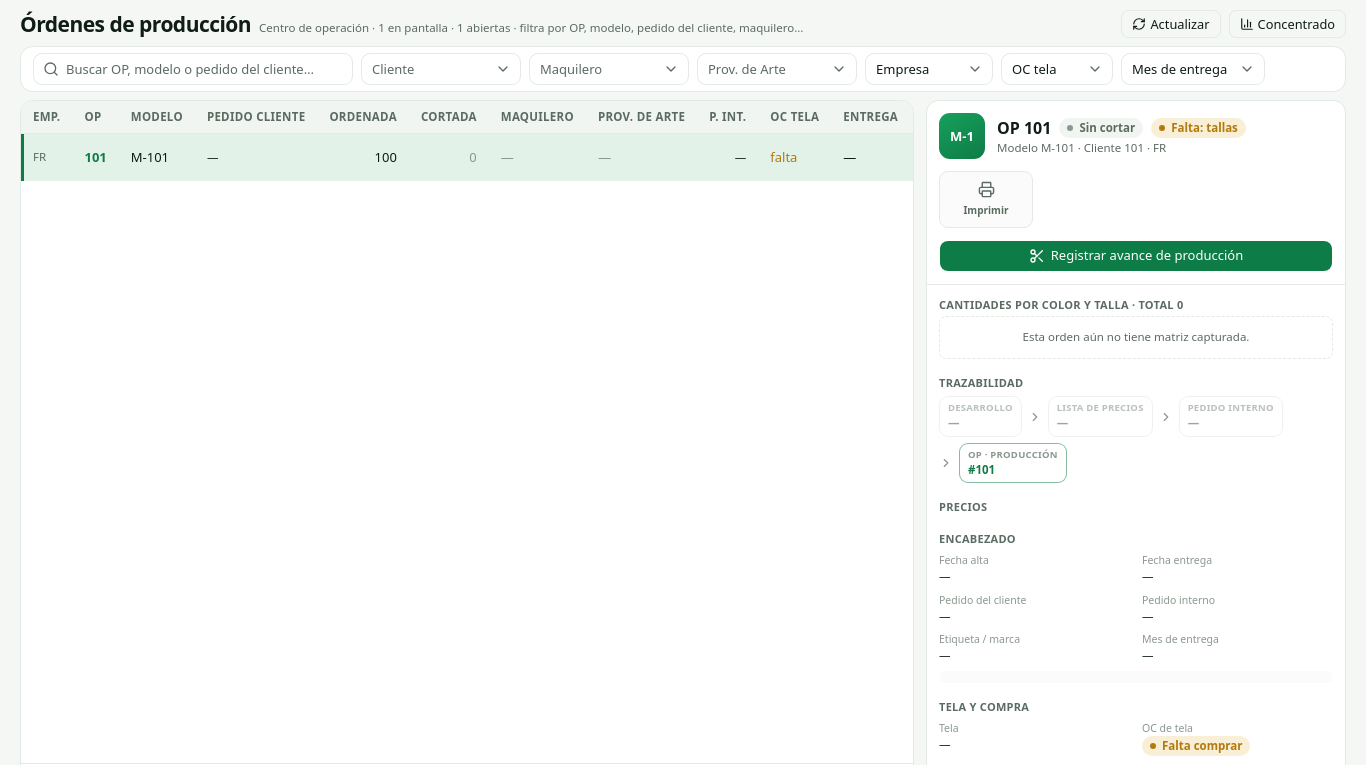
Test case: <CentroOrdenesPagina> › los filtros de select llevan su ✕ para quitarlos (mes de entrega)
Select "Mar" in the dropdown with test id "centro-filtro-mes": coordinates (1193, 69) [1121,53,1265,85]
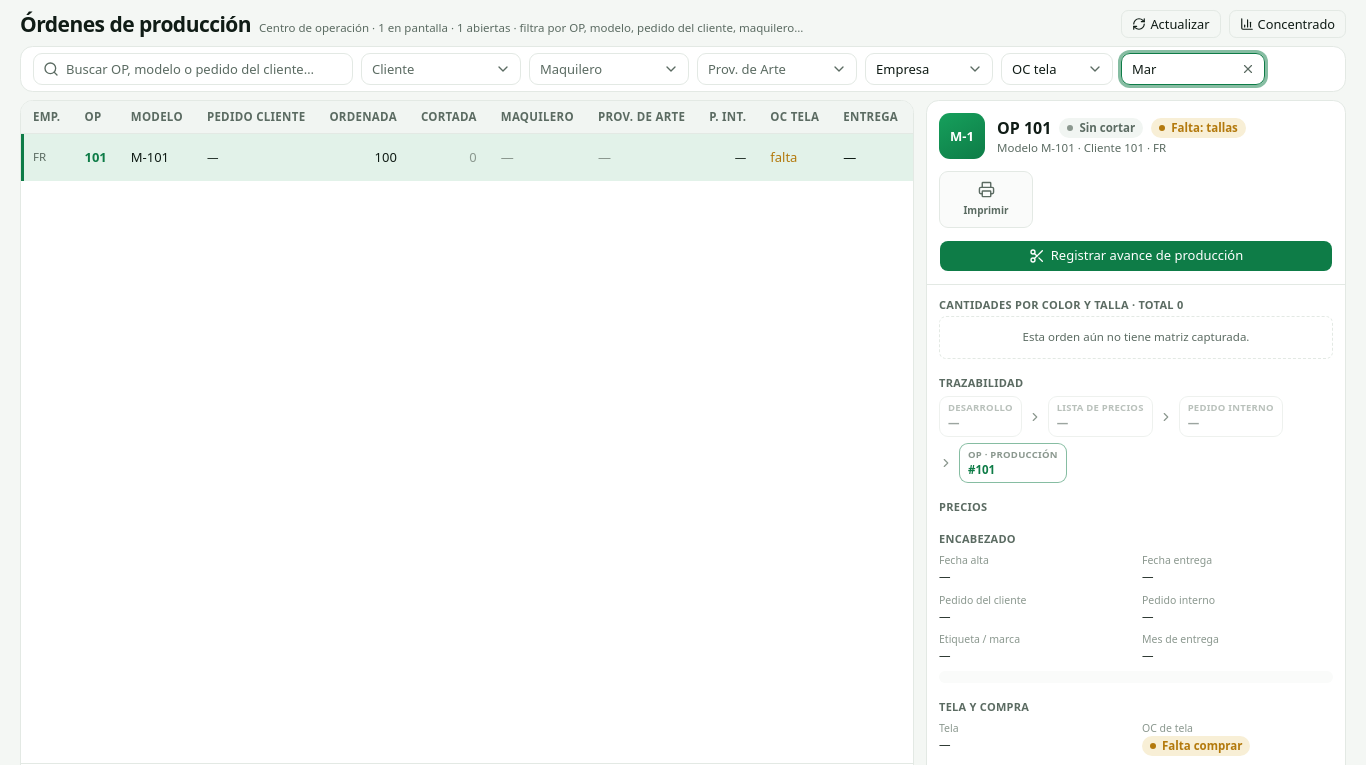
Click the button with test id "centro-filtro-mes-limpiar": coordinates (1248, 69) [1239,60,1257,78]
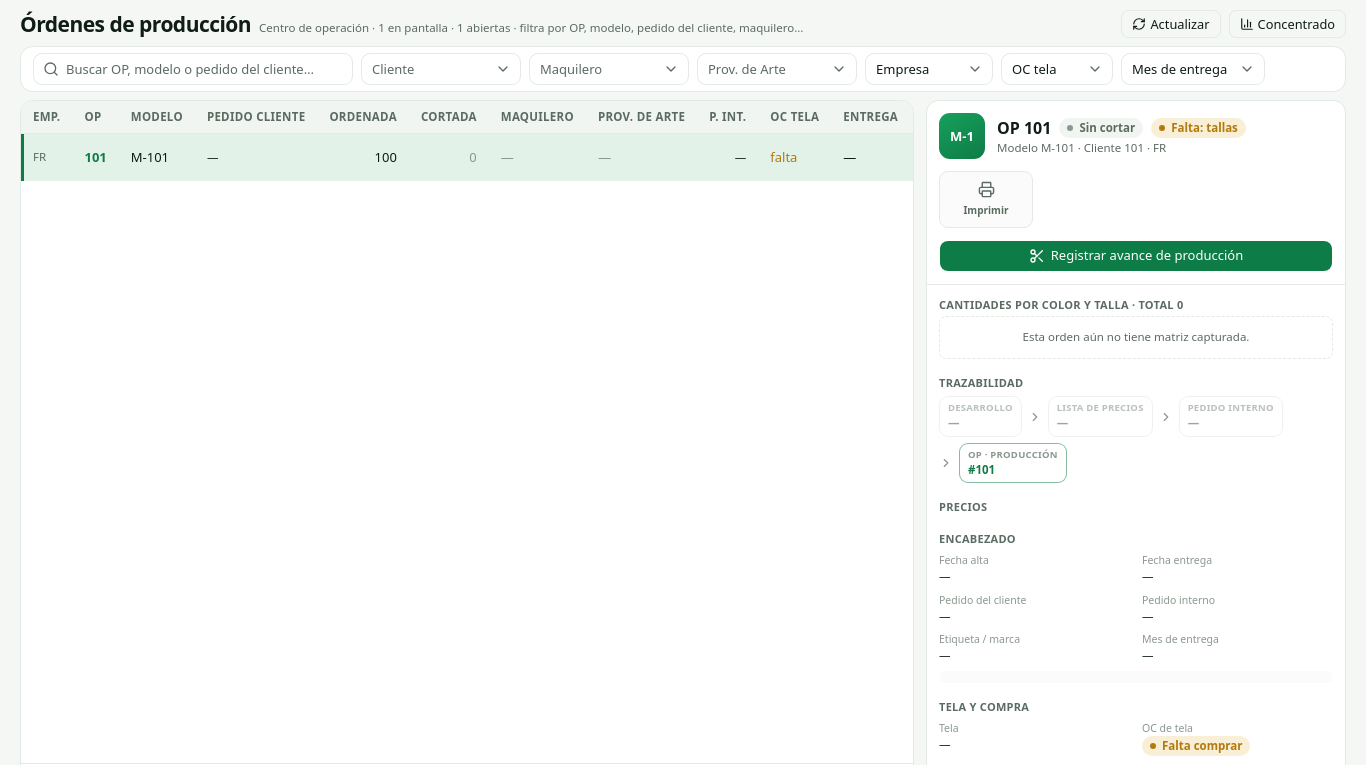
Now the button with test id "centro-filtro-mes-limpiar" is gone
